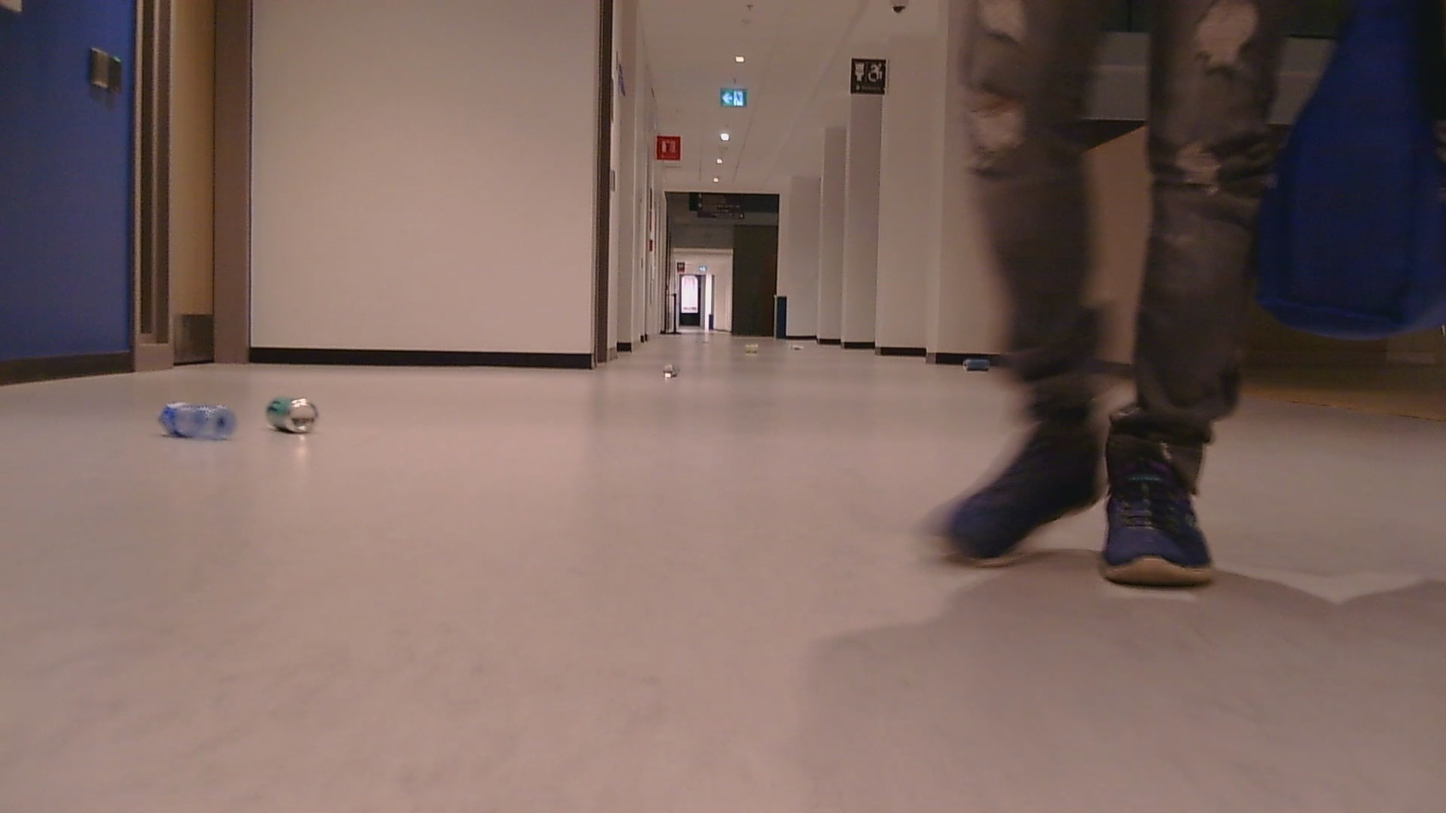carton: (143, 387, 241, 454), (246, 382, 328, 447), (958, 349, 998, 386), (654, 357, 689, 382), (740, 333, 765, 359), (789, 337, 812, 355)
